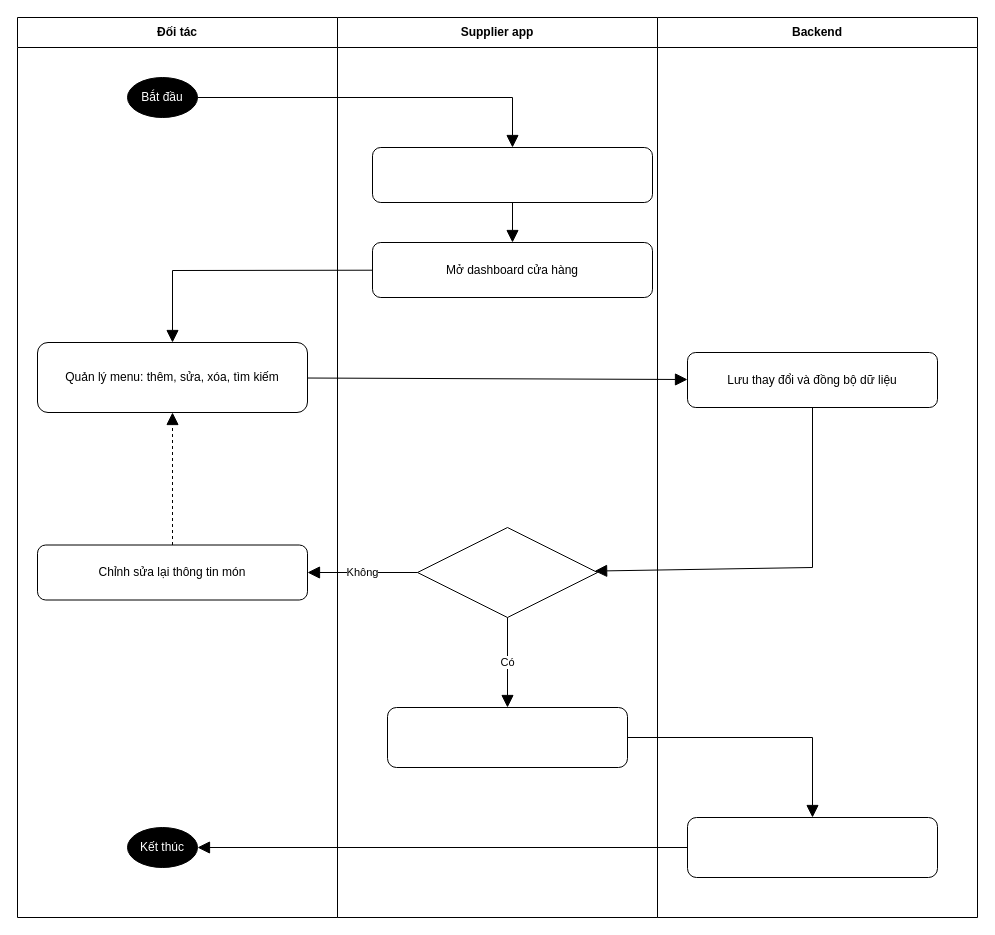
Image size: 995x935. Some labels were removed from this diagram. Each missing label, with the centre of its shape:
Cập nhật ledger và analytics: the point at 812,847
Thay đổi hợp lệ?: the point at 507,572
Theo dõi đơn gần đây và reviews: the point at 507,737
Đăng nhập vào supplier app: the point at 512,174
